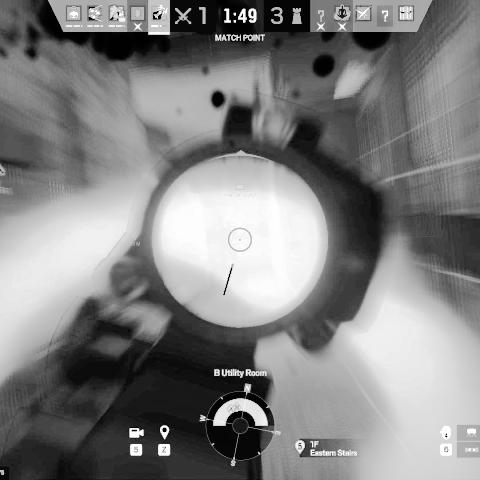Friend_label: (223, 182, 257, 198)
